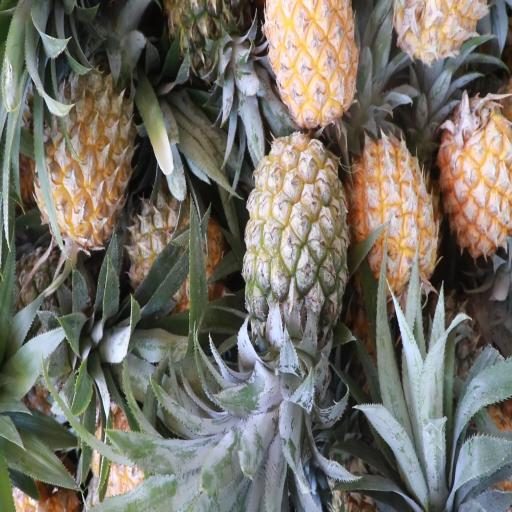------------------------------: (242, 139, 347, 358), (133, 194, 222, 314)
Pineapple - v8 v1: (38, 71, 133, 245), (356, 133, 439, 290), (438, 98, 512, 260), (264, 0, 358, 126)
